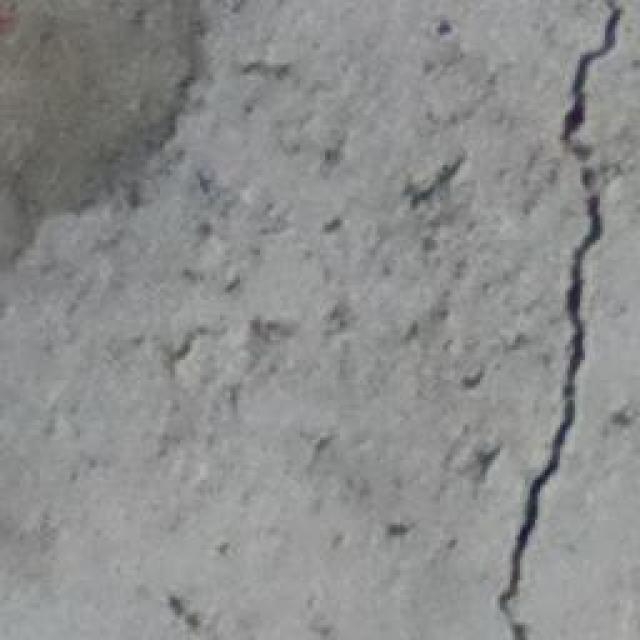Longitudinal: (495, 0, 622, 640)
